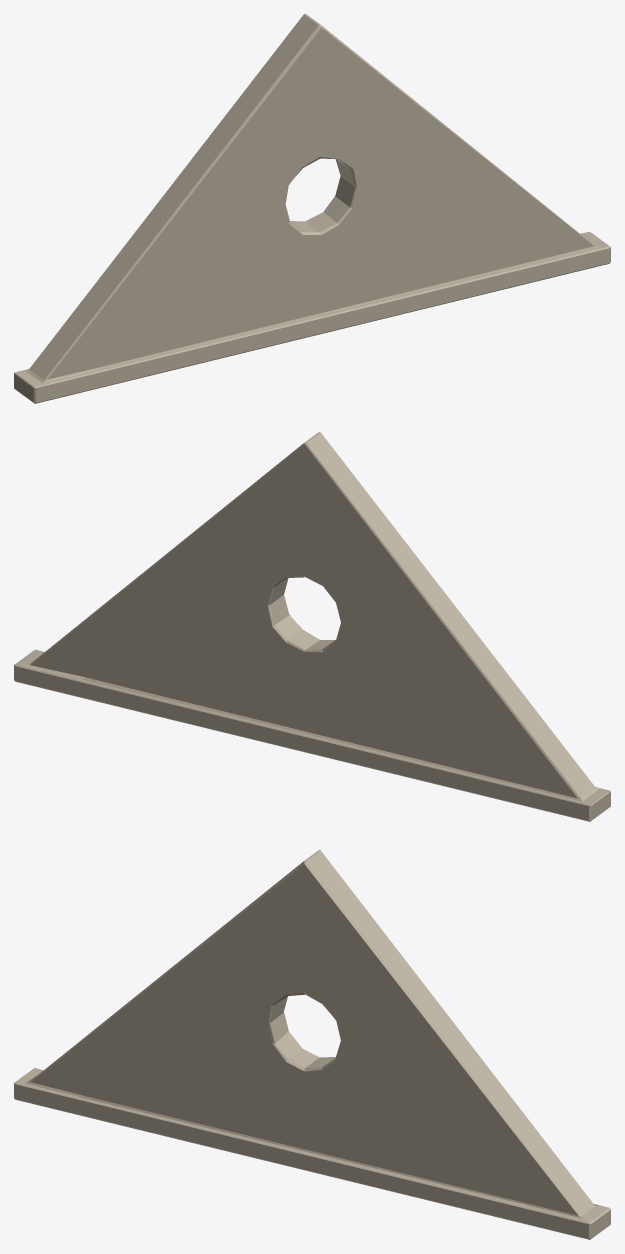
File: gable_win_r10.fbx
3 renders of one model, top to bottom at view 1: azimuth 30°, elevation 25°; view 2: azimuth 150°, elevation 25°; view 3: azimuth 330°, elevation 25°, orthographic.
Visible parts, largest first — view 1: gable_win_r10; view 2: gable_win_r10; view 3: gable_win_r10.
Part boxes in pixels (x1=…): gable_win_r10: x1=14, y1=14, x2=610, y2=403; gable_win_r10: x1=14, y1=432, x2=610, y2=821; gable_win_r10: x1=14, y1=850, x2=610, y2=1239.
Bounding box in the file's own units: 2040 × 1036 × 130.
